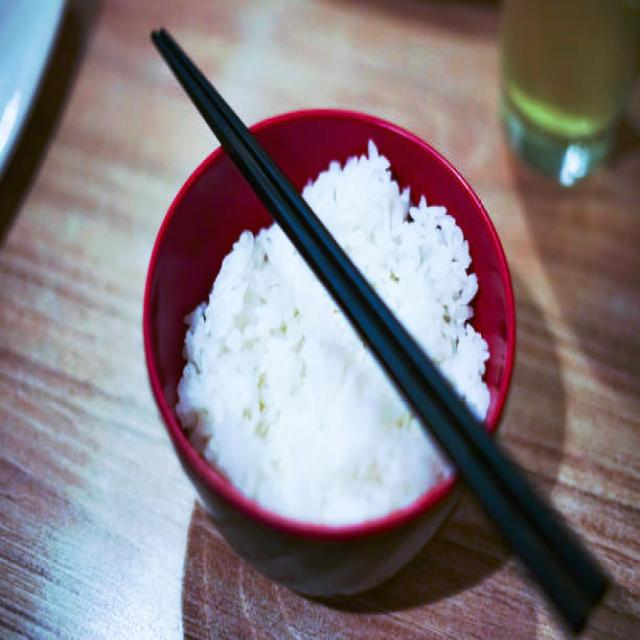rice: (178, 143, 489, 527)
